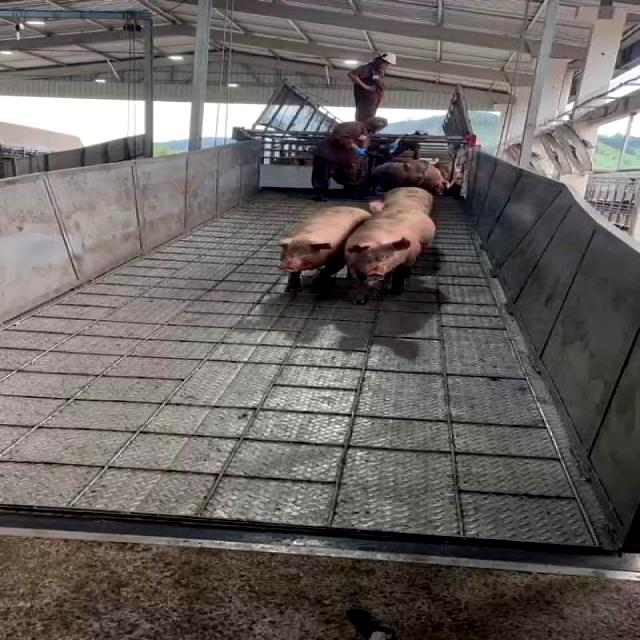pig: (345, 199, 435, 298), (276, 208, 369, 290), (371, 188, 433, 215)
